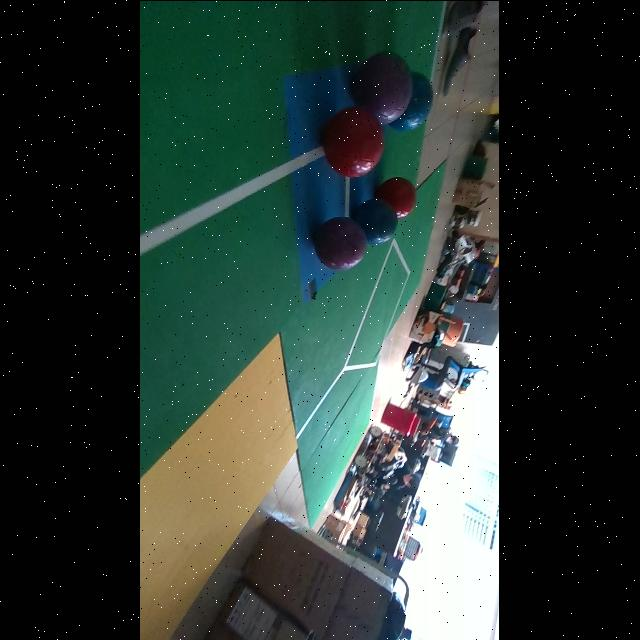B: (391, 71, 434, 130), (354, 197, 398, 244)
P: (353, 52, 413, 123), (315, 216, 368, 269)
R: (324, 107, 385, 177), (376, 176, 417, 219)
